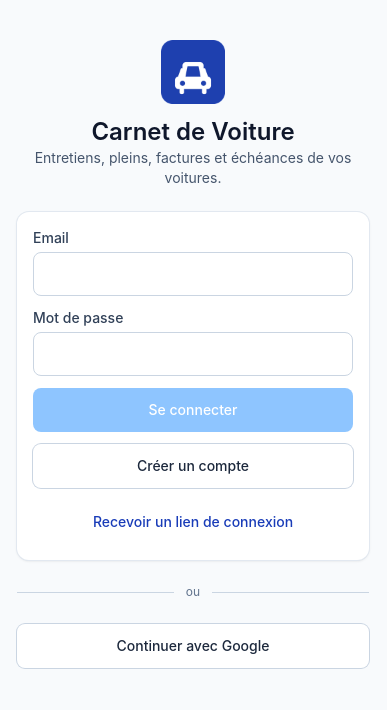
Test: shows a French message on wrong credentials
In the field labelled "Email": (193, 274) [33, 252, 353, 296], type "a@b.fr"
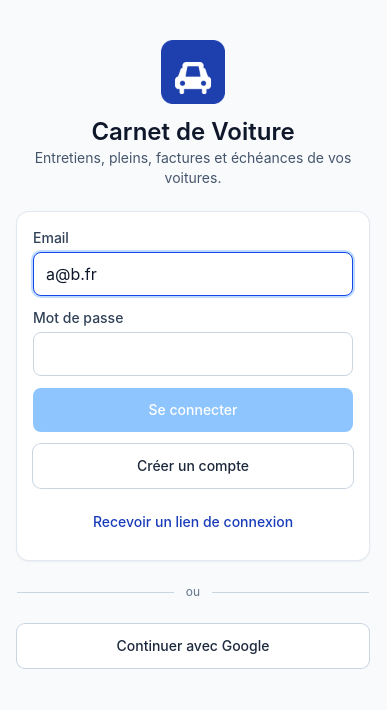
In the password field labelled "Mot de passe": (193, 354) [33, 332, 353, 376], type "secret123"
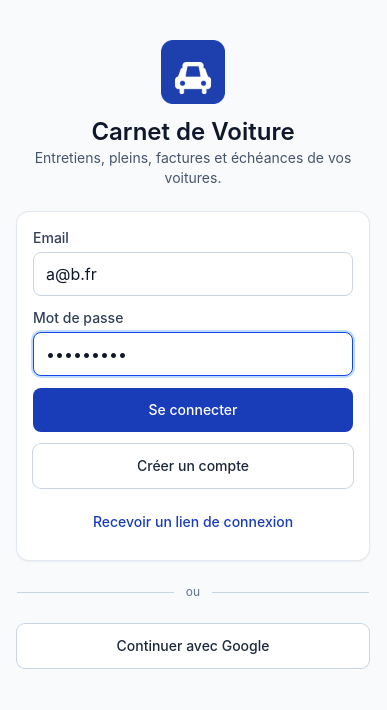
Click the button "Se connecter": (193, 410) [33, 388, 353, 432]
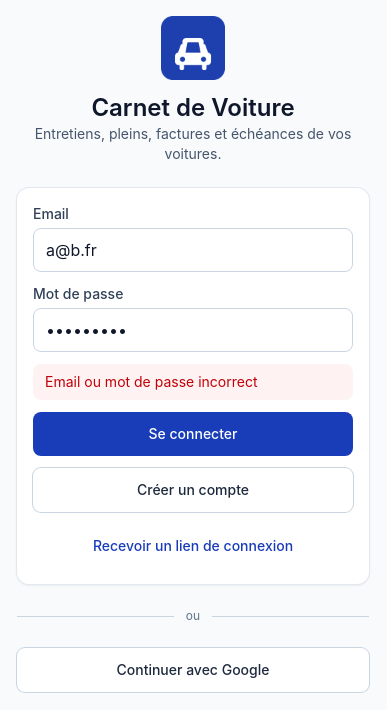
Expected: the message reads "Email ou mot de passe incorrect", [45, 373, 258, 390]
